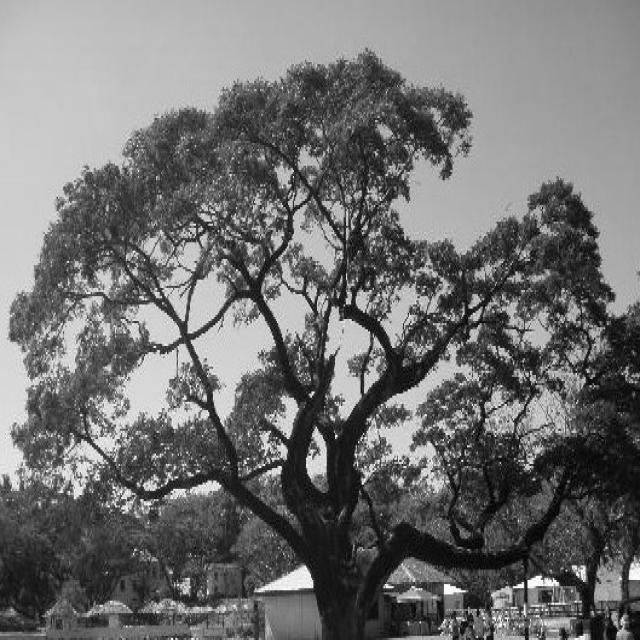Acacia: (5, 44, 635, 619)
